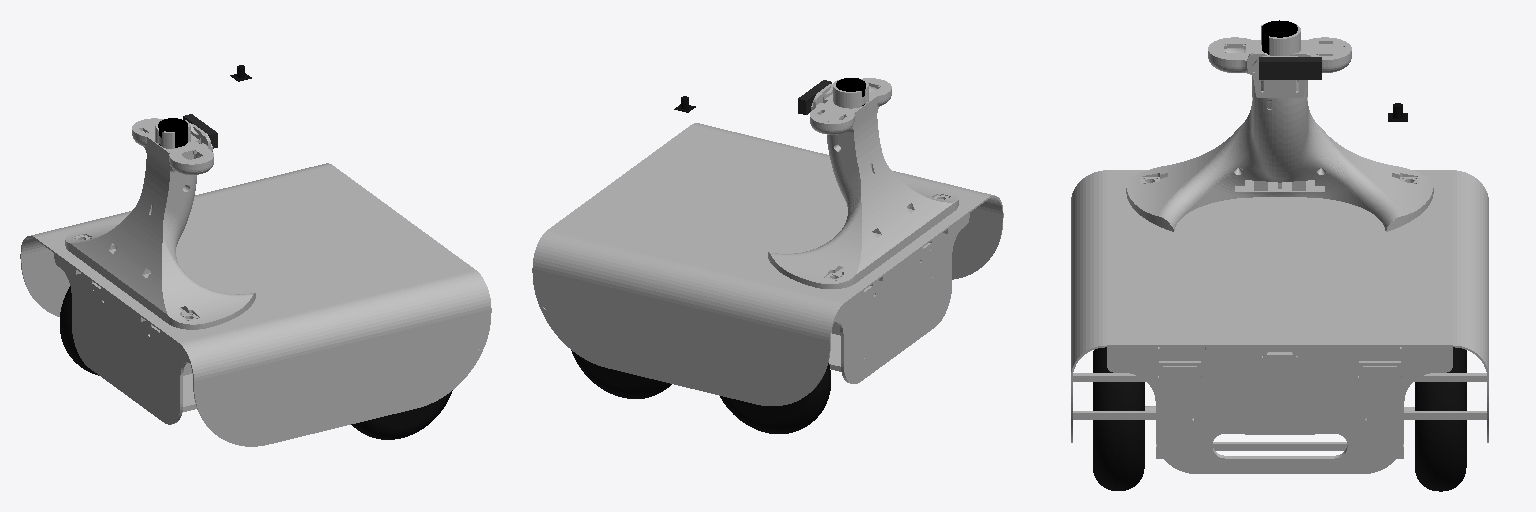
robot.urdf — rob_box:
<?xml version="1.0" ?>
<!-- =================================================================================== -->
<!-- |    This document was autogenerated by xacro from /w/orig/src/rob_box_description/urdf/rob_box.xacro | -->
<!-- |    EDITING THIS FILE BY HAND IS NOT RECOMMENDED                                 | -->
<!-- =================================================================================== -->
<robot name="rob_box">
  <!-- От Fusion 360: 62.65 кг -->
  <!-- base_footprint - корневой фрейм робота на уровне пола -->
  <!-- Используется как reference frame в соответствии с REP-120 -->
  <link name="base_footprint">
    <visual>
      <origin rpy="0 0 0" xyz="0 0 0"/>
      <geometry>
        <sphere radius="0.001"/>
      </geometry>
    </visual>
  </link>
  <!-- Основное шасси - обновлено из Fusion 360 Export -->
  <!-- base_link в системе ROS (X вперед, Y влево) - исправленный экспорт из Fusion -->
  <link name="base_link">
    <!-- Меш base_link.stl из Fusion 360 - нормализован относительно base_link (0,0,0) -->
    <inertial>
      <!-- Инерциальные параметры из Fusion 360 (исправленный экспорт 2e0e5f8) -->
      <origin rpy="0 0 0" xyz="-0.025488169162561854 -2.4090750285970683e-05 0.14529190576177384"/>
      <mass value="62.64527022934752"/>
      <inertia ixx="1.926172" ixy="0.001791" ixz="0.302171" iyy="2.829827" iyz="-0.001655" izz="3.653023"/>
    </inertial>
    <visual>
      <!-- Меш БЕЗ ПОВОРОТА - frame base_link уже повернут через base_footprint_joint -->
      <origin rpy="0 0 0" xyz="0 0 0"/>
      <geometry>
        <mesh filename="package://rob_box_description/meshes/base_link.stl" scale="0.001 0.001 0.001"/>
      </geometry>
      <material name="silver">
        <color rgba="0.75 0.75 0.75 1"/>
      </material>
    </visual>
    <collision>
      <!-- Collision также БЕЗ ПОВОРОТА -->
      <origin rpy="0 0 0" xyz="0 0 0"/>
      <geometry>
        <mesh filename="package://rob_box_description/meshes/base_link.stl" scale="0.001 0.001 0.001"/>
      </geometry>
    </collision>
  </link>
  <!-- Джойнт base_footprint -> base_link БЕЗ ПОВОРОТА -->
  <!-- base_footprint на уровне пола, base_link поднят на высоту колеса -->
  <joint name="base_footprint_joint" type="fixed">
    <parent link="base_footprint"/>
    <child link="base_link"/>
    <!-- БЕЗ ПОВОРОТА - визуал и одометрия должны соответствовать физическому роботу -->
    <origin rpy="0 0 0" xyz="0 0 0.1143"/>
  </joint>
  <link name="left_rear_wheel">
    <!-- Инерциальные параметры из Fusion 360 (исправленный экспорт) -->
    <inertial>
      <mass value="21.68159743475603"/>
      <!-- Inertial origin: смещение центра масс колеса -->
      <origin xyz="0 0.0375 0"/>
      <inertia ixx="0.073667" ixy="0" ixz="0" iyy="0.129466" iyz="0" izz="0.073667"/>
    </inertial>
    <visual>
      <!-- Visual origin: offset меша относительно линка БЕЗ ПОВОРОТА -->
      <!-- Frame base_link уже повернут через base_footprint_joint -->
      <origin rpy="0 0 0" xyz="0.143797 -0.195 -0.028767"/>
      <geometry>
        <mesh filename="package://rob_box_description/meshes/left_rear_wheel.stl" scale="0.001 0.001 0.001"/>
      </geometry>
      <material name="black">
        <color rgba="0.1 0.1 0.1 1"/>
      </material>
    </visual>
    <collision>
      <!-- Collision также БЕЗ ПОВОРОТА -->
      <origin rpy="0 0 0" xyz="0.143797 -0.195 -0.028767"/>
      <geometry>
        <mesh filename="package://rob_box_description/meshes/left_rear_wheel.stl" scale="0.001 0.001 0.001"/>
      </geometry>
    </collision>
  </link>
  <joint name="left_rear_wheel_joint" type="continuous">
    <parent link="base_link"/>
    <child link="left_rear_wheel"/>
    <origin rpy="0 0 0" xyz="-0.143797 0.195 0.028767"/>
    <axis xyz="0.0 1.0 0.0"/>
  </joint>
  <link name="left_front_wheel">
    <!-- Инерциальные параметры из Fusion 360 (исправленный экспорт) -->
    <inertial>
      <mass value="21.68159743475603"/>
      <!-- Inertial origin: смещение центра масс колеса -->
      <origin xyz="0 0.0375 0"/>
      <inertia ixx="0.073667" ixy="0" ixz="0" iyy="0.129466" iyz="0" izz="0.073667"/>
    </inertial>
    <visual>
      <!-- Visual origin: offset меша относительно линка БЕЗ ПОВОРОТА -->
      <!-- Frame base_link уже повернут через base_footprint_joint -->
      <origin rpy="0 0 0" xyz="-0.145731 -0.195 -0.0289"/>
      <geometry>
        <mesh filename="package://rob_box_description/meshes/left_front_wheel.stl" scale="0.001 0.001 0.001"/>
      </geometry>
      <material name="black">
        <color rgba="0.1 0.1 0.1 1"/>
      </material>
    </visual>
    <collision>
      <!-- Collision также БЕЗ ПОВОРОТА -->
      <origin rpy="0 0 0" xyz="-0.145731 -0.195 -0.0289"/>
      <geometry>
        <mesh filename="package://rob_box_description/meshes/left_front_wheel.stl" scale="0.001 0.001 0.001"/>
      </geometry>
    </collision>
  </link>
  <joint name="left_front_wheel_joint" type="continuous">
    <parent link="base_link"/>
    <child link="left_front_wheel"/>
    <origin rpy="0 0 0" xyz="0.145731 0.195 0.0289"/>
    <axis xyz="0.0 1.0 0.0"/>
  </joint>
  <link name="right_front_wheel">
    <!-- Инерциальные параметры из Fusion 360 (исправленный экспорт) -->
    <inertial>
      <mass value="21.68159743475603"/>
      <!-- Inertial origin: смещение центра масс колеса -->
      <origin xyz="0 0.0375 0"/>
      <inertia ixx="0.073667" ixy="0" ixz="0" iyy="0.129466" iyz="0" izz="0.073667"/>
    </inertial>
    <visual>
      <!-- Visual origin: offset меша относительно линка БЕЗ ПОВОРОТА -->
      <!-- Frame base_link уже повернут через base_footprint_joint -->
      <origin rpy="0 0 0" xyz="-0.144669 0.195967 -0.0289"/>
      <geometry>
        <mesh filename="package://rob_box_description/meshes/right_front_wheel.stl" scale="0.001 0.001 0.001"/>
      </geometry>
      <material name="black">
        <color rgba="0.1 0.1 0.1 1"/>
      </material>
    </visual>
    <collision>
      <!-- Collision также БЕЗ ПОВОРОТА -->
      <origin rpy="0 0 0" xyz="-0.144669 0.195967 -0.0289"/>
      <geometry>
        <mesh filename="package://rob_box_description/meshes/right_front_wheel.stl" scale="0.001 0.001 0.001"/>
      </geometry>
    </collision>
  </link>
  <joint name="right_front_wheel_joint" type="continuous">
    <parent link="base_link"/>
    <child link="right_front_wheel"/>
    <origin rpy="0 0 0" xyz="0.144669 -0.195967 0.0289"/>
    <axis xyz="0.0 -1.0 0.0"/>
  </joint>
  <link name="right_rear_wheel">
    <!-- Инерциальные параметры из Fusion 360 (исправленный экспорт) -->
    <inertial>
      <mass value="21.68159743475603"/>
      <!-- Inertial origin: смещение центра масс колеса -->
      <origin xyz="0 0.0375 0"/>
      <inertia ixx="0.073667" ixy="0" ixz="0" iyy="0.129466" iyz="0" izz="0.073667"/>
    </inertial>
    <visual>
      <!-- Visual origin: offset меша относительно линка БЕЗ ПОВОРОТА -->
      <!-- Frame base_link уже повернут через base_footprint_joint -->
      <origin rpy="0 0 0" xyz="0.143797 0.195 -0.028767"/>
      <geometry>
        <mesh filename="package://rob_box_description/meshes/right_rear_wheel.stl" scale="0.001 0.001 0.001"/>
      </geometry>
      <material name="black">
        <color rgba="0.1 0.1 0.1 1"/>
      </material>
    </visual>
    <collision>
      <!-- Collision также БЕЗ ПОВОРОТА -->
      <origin rpy="0 0 0" xyz="0.143797 0.195 -0.028767"/>
      <geometry>
        <mesh filename="package://rob_box_description/meshes/right_rear_wheel.stl" scale="0.001 0.001 0.001"/>
      </geometry>
    </collision>
  </link>
  <joint name="right_rear_wheel_joint" type="continuous">
    <parent link="base_link"/>
    <child link="right_rear_wheel"/>
    <origin rpy="0 0 0" xyz="-0.143797 -0.195 0.028767"/>
    <axis xyz="0.0 -1.0 0.0"/>
  </joint>
  <link name="lslidar_n10">
    <visual>
      <origin rpy="0 0 0" xyz="0 0 0"/>
      <geometry>
        <cylinder length="0.0361" radius="0.026"/>
      </geometry>
      <material name="black">
        <color rgba="0 0 0 1"/>
      </material>
    </visual>
    <collision>
      <origin rpy="0 0 0" xyz="0 0 0"/>
      <geometry>
        <cylinder length="0.0361" radius="0.026"/>
      </geometry>
    </collision>
    <inertial>
      <mass value="0.06"/>
      <origin xyz="0 0 0"/>
      <inertia ixx="0.0001" ixy="0" ixz="0" iyy="0.0001" iyz="0" izz="0.0001"/>
    </inertial>
  </link>
  <joint name="lslidar_n10_joint" type="fixed">
    <parent link="base_link"/>
    <child link="lslidar_n10"/>
    <origin rpy="0 0 0" xyz="-0.170806 -0.000331 0.4765"/>
  </joint>
  <gazebo reference="lslidar_n10">
    <sensor name="lslidar_n10_sensor" type="gpu_lidar">
      <pose>0 0 0 0 0 0</pose>
      <topic>/scan</topic>
      <update_rate>10</update_rate>
      <ray>
        <scan>
          <horizontal>
            <samples>640</samples>
            <resolution>1</resolution>
            <min_angle>-1.396263</min_angle>
            <max_angle>1.396263</max_angle>
          </horizontal>
          <vertical>
            <samples>1</samples>
            <resolution>0.01</resolution>
            <min_angle>0</min_angle>
            <max_angle>0</max_angle>
          </vertical>
        </scan>
        <range>
          <min>0.08</min>
          <max>10.0</max>
          <resolution>0.01</resolution>
        </range>
      </ray>
      <always_on>1</always_on>
      <visualize>true</visualize>
    </sensor>
    <plugin filename="libignition-gazebo-sensors-system.so" name="ignition::gazebo::systems::Sensors">
      <render_engine>ogre2</render_engine>
    </plugin>
  </gazebo>
  <!-- camera_link - основной корпус камеры -->
  <link name="camera_link">
    <visual>
      <!-- Visual offset из экспорта Fusion (компенсация позиции меша) -->
      <origin rpy="0 0 0" xyz="0.115772 0.000238 -0.4595"/>
      <geometry>
        <mesh filename="package://rob_box_description/meshes/camera_oak.stl" scale="0.001 0.001 0.001"/>
      </geometry>
      <material name="dark_grey">
        <color rgba="0.2 0.2 0.2 1"/>
      </material>
    </visual>
    <collision>
      <!-- Collision offset из экспорта Fusion -->
      <origin rpy="0 0 0" xyz="0.115772 0.000238 -0.4595"/>
      <geometry>
        <mesh filename="package://rob_box_description/meshes/camera_oak.stl" scale="0.001 0.001 0.001"/>
      </geometry>
    </collision>
    <inertial>
      <mass value="0.350"/>
      <!-- 350g из экспорта Fusion -->
      <origin xyz="0.00875 0.015 0"/>
      <!-- Из экспорта Fusion -->
      <inertia ixx="0.000264" ixy="0" ixz="0" iyy="0.000032" iyz="0" izz="0.00025"/>
    </inertial>
  </link>
  <!-- Присоединение к роботу -->
  <joint name="camera_joint" type="fixed">
    <parent link="base_link"/>
    <child link="camera_link"/>
    <origin rpy="0 0 0" xyz="-0.115772 -0.000238 0.4595"/>
  </joint>
  <!-- camera (intermediate frame - используется depthai_ros_driver) -->
  <link name="camera"/>
  <joint name="camera_base_joint" type="fixed">
    <parent link="camera_link"/>
    <child link="camera"/>
    <origin rpy="0 0 0" xyz="0 0 0"/>
  </joint>
  <!-- RGB camera frames (depthai_ros_driver использует именование rgb_camera, не color) -->
  <link name="camera_rgb_camera_frame"/>
  <joint name="camera_rgb_camera_frame_joint" type="fixed">
    <parent link="camera"/>
    <child link="camera_rgb_camera_frame"/>
    <!-- Смещение RGB камеры относительно базы (из calibration) -->
    <origin rpy="0 0 0" xyz="0 0 0"/>
  </joint>
  <link name="camera_rgb_camera_optical_frame"/>
  <joint name="camera_rgb_camera_optical_frame_joint" type="fixed">
    <parent link="camera_rgb_camera_frame"/>
    <child link="camera_rgb_camera_optical_frame"/>
    <!-- Optical frame: X right, Y down, Z forward (ROS camera convention) -->
    <origin rpy="-1.5708 0 -1.5708" xyz="0 0 0"/>
  </joint>
  <!-- Compatibility aliases for current depthai_ros_driver color frame naming -->
  <link name="camera_color_frame"/>
  <joint name="camera_color_frame_joint" type="fixed">
    <parent link="camera_rgb_camera_frame"/>
    <child link="camera_color_frame"/>
    <origin rpy="0 0 0" xyz="0 0 0"/>
  </joint>
  <link name="camera_color_optical_frame"/>
  <joint name="camera_color_optical_frame_joint" type="fixed">
    <parent link="camera_rgb_camera_optical_frame"/>
    <child link="camera_color_optical_frame"/>
    <origin rpy="0 0 0" xyz="0 0 0"/>
  </joint>
  <!-- Depth/Stereo camera frames -->
  <link name="camera_stereo_camera_frame"/>
  <joint name="camera_stereo_camera_frame_joint" type="fixed">
    <parent link="camera"/>
    <child link="camera_stereo_camera_frame"/>
    <!-- Depth камера немного смещена (левая камера stereo пары) -->
    <origin rpy="0 0 0" xyz="0 0.0375 0"/>
  </joint>
  <link name="camera_stereo_camera_optical_frame"/>
  <joint name="camera_stereo_camera_optical_frame_joint" type="fixed">
    <parent link="camera_stereo_camera_frame"/>
    <child link="camera_stereo_camera_optical_frame"/>
    <origin rpy="-1.5708 0 -1.5708" xyz="0 0 0"/>
  </joint>
  <!-- IMU frame (если используется) -->
  <link name="camera_imu_frame"/>
  <joint name="camera_imu_frame_joint" type="fixed">
    <parent link="camera"/>
    <child link="camera_imu_frame"/>
    <origin rpy="3.14159 0 1.5708" xyz="0 0 0"/>
  </joint>
  <!-- camera_link - основной корпус камеры -->
  <link name="ceiling_camera_link">
    <visual>
      <!-- Visual offset из экспорта Fusion (компенсация позиции меша) -->
      <origin rpy="0 0 0" xyz="0.170663 -0.065 -0.4615"/>
      <geometry>
        <mesh filename="package://rob_box_description/meshes/camera_rpi.stl" scale="0.001 0.001 0.001"/>
      </geometry>
      <material name="black">
        <color rgba="0.1 0.1 0.1 1"/>
      </material>
    </visual>
    <collision>
      <!-- Collision offset из экспорта Fusion -->
      <origin rpy="0 0 0" xyz="0.170663 -0.065 -0.4615"/>
      <geometry>
        <mesh filename="package://rob_box_description/meshes/camera_rpi.stl" scale="0.001 0.001 0.001"/>
      </geometry>
    </collision>
    <inertial>
      <mass value="0.029"/>
      <!-- 29g из экспорта Fusion -->
      <origin xyz="0 0 0.008"/>
      <!-- Из экспорта Fusion -->
      <inertia ixx="0.000002" ixy="0" ixz="0" iyy="0.000002" iyz="0" izz="0.000001"/>
    </inertial>
  </link>
  <!-- Присоединение к роботу -->
  <joint name="ceiling_camera_joint" type="fixed">
    <parent link="base_link"/>
    <child link="ceiling_camera_link"/>
    <origin rpy="0 0 0" xyz="-0.170663 0.065 0.4615"/>
  </joint>
  <!-- Optical frame (ROS camera convention): X вправо по кадру, Y вниз по кадру, Z по оптической оси -->
  <link name="ceiling_camera_optical_frame"/>
  <joint name="ceiling_camera_optical_frame_joint" type="fixed">
    <parent link="ceiling_camera_link"/>
    <child link="ceiling_camera_optical_frame"/>
    <origin rpy="0 0 1.5708" xyz="0 0 0"/>
  </joint>
  <!-- Микрофонный массив: только фрейм (без меша). Центр массива, Z вверх.     -->
  <!-- Потребитель — азимут DOA → трек (ADR-0130 §2.9, этап 5). Положение — см. выше. -->
  <link name="mic_array_link"/>
  <joint name="mic_array_joint" type="fixed">
    <parent link="base_link"/>
    <child link="mic_array_link"/>
    <origin rpy="0 0 0" xyz="-0.1707 0.05 0.4765"/>
  </joint>
  <!-- ═══════════════════════════════════════════════════════════════ -->
  <!-- ros2_control Hardware Interface - VESC Nexus                    -->
  <!-- ═══════════════════════════════════════════════════════════════ -->
  <ros2_control name="VescSystem" type="system">
    <hardware>
      <plugin>vesc_nexus/VescSystemHardwareInterface</plugin>
      <!-- CAN Interface Configuration -->
      <param name="can_interface">can0</param>
      <!-- Передаточное число редуктора (motor_rps / gear_ratio = wheel_rps) -->
      <!-- Эмпирическая калибровка 2026-02-27: физ. редуктор 5:1, но max_rps=6.5 -->
      <!-- уже частично учитывает передачу. Подбирается так чтобы -->
      <!-- Калибровка 2026-02-28: 2.26/1.04=2.17 (физ 104см vs ожид 100см @0.2m/s×5s) -->
      <!-- #4360, тахометр 04.11 (кирпичи, 0.2/0.6/1.0 м/с): драйвер завышал скорость колеса в 1.326 раза. -->
      <!-- gear_ratio делит eRPM в state (velocity/position колеса): 2.17×1.326 = 2.87742. -->
      <!-- max_rps в joint'ах умножен на тот же 1.326 (12.2 → 16.1772): duty = wheel_rps·gear_ratio/max_rps -->
      <!-- зависит только от отношения gear_ratio/max_rps, поэтому команда на моторы не изменилась. -->
      <param name="gear_ratio">2.87742</param>
      <!-- Минимальный duty cycle для преодоления мёртвой зоны VESC -->
      <!-- Используется только в режиме control_mode=duty -->
      <!-- Калибровка 2026-02-28: 0.08→0.04→0.05 -->
      <param name="min_duty">0.05</param>
      <!-- Режим управления моторами: "duty" или "rpm" -->
      <!-- duty: открытый контур, отправляет duty cycle (% напряжения) -->
      <!-- rpm: замкнутый контур, отправляет целевой ERPM, VESC PID держит скорость -->
      <!-- rpm пока вызывает дребезг моторов на низких ERPM (hall interp + PID tuning) -->
      <param name="control_mode">duty</param>
    </hardware>
    <!-- ═══════════════════════════════════════════════════════════════ -->
    <!-- Left Front Wheel -->
    <!-- ═══════════════════════════════════════════════════════════════ -->
    <joint name="left_front_wheel_joint">
      <command_interface name="velocity">
        <param name="min">-10</param>
        <!-- м/с -->
        <param name="max">10</param>
      </command_interface>
      <state_interface name="velocity"/>
      <state_interface name="position"/>
      <!-- VESC Configuration -->
      <param name="can_id">49</param>
      <!-- CAN ID в VESC Tool -->
      <param name="poles">30</param>
      <!-- Количество полюсов мотора -->
      <param name="max_rps">16.1772</param>
      <!-- Калибровка 2026-02-28: ratio=1.22@0.2m/s×5s, max_rps=10×1.22 -->
    </joint>
    <!-- ═══════════════════════════════════════════════════════════════ -->
    <!-- Right Front Wheel -->
    <!-- ═══════════════════════════════════════════════════════════════ -->
    <joint name="right_front_wheel_joint">
      <command_interface name="velocity">
        <param name="min">-10</param>
        <param name="max">10</param>
      </command_interface>
      <state_interface name="velocity"/>
      <state_interface name="position"/>
      <param name="can_id">94</param>
      <param name="poles">30</param>
      <param name="max_rps">16.1772</param>
      <!-- Калибровка 2026-02-28: ratio=1.22@0.2m/s×5s -->
    </joint>
    <!-- ═══════════════════════════════════════════════════════════════ -->
    <!-- Left Rear Wheel -->
    <!-- ═══════════════════════════════════════════════════════════════ -->
    <joint name="left_rear_wheel_joint">
      <command_interface name="velocity">
        <param name="min">-10</param>
        <param name="max">10</param>
      </command_interface>
      <state_interface name="velocity"/>
      <state_interface name="position"/>
      <param name="can_id">81</param>
      <param name="poles">30</param>
      <param name="max_rps">16.1772</param>
      <!-- Калибровка 2026-02-28: ratio=1.22@0.2m/s×5s -->
    </joint>
    <!-- ═══════════════════════════════════════════════════════════════ -->
    <!-- Right Rear Wheel -->
    <!-- ═══════════════════════════════════════════════════════════════ -->
    <joint name="right_rear_wheel_joint">
      <command_interface name="velocity">
        <param name="min">-10</param>
        <param name="max">10</param>
      </command_interface>
      <state_interface name="velocity"/>
      <state_interface name="position"/>
      <param name="can_id">124</param>
      <param name="poles">30</param>
      <param name="max_rps">16.1772</param>
      <!-- Калибровка 2026-02-28: ratio=1.22@0.2m/s×5s -->
    </joint>
  </ros2_control>
</robot>

--- Facts derived from the render (not from the file) ---
Views: 3 orthographic renders of the robot side by side, from view 1: azimuth 30°, elevation 25°; view 2: azimuth 150°, elevation 25°; view 3: azimuth 270°, elevation 25°.
Model rob_box with 19 links and 18 joints (4 continuous, 14 fixed), rooted at base_footprint, posed all joints at 0.
Links seen in each view (by area): view 1: base_link, right_front_wheel, left_rear_wheel, lslidar_n10; view 2: base_link, left_rear_wheel, left_front_wheel; view 3: base_link, left_front_wheel, right_front_wheel, camera_link, lslidar_n10.
Link boxes in pixels (x1,y1,x2,y2): base_link: (20, 118, 491, 446); right_front_wheel: (351, 390, 452, 439); left_rear_wheel: (60, 286, 98, 375); lslidar_n10: (158, 118, 187, 147); base_link: (532, 78, 1003, 405); left_rear_wheel: (720, 363, 830, 433); left_front_wheel: (571, 350, 671, 398); base_link: (1071, 23, 1488, 473); left_front_wheel: (1415, 347, 1466, 491); right_front_wheel: (1093, 347, 1144, 490); camera_link: (1259, 57, 1321, 79); lslidar_n10: (1262, 20, 1297, 54).
Bounding box of the posed robot: 0.61 × 0.606 × 0.6098 m (x, y, z).
6 mesh visuals loaded from 7 distinct referenced files (6 binary STL); not drawn: 1 (reference not matched to a file when rendering).
